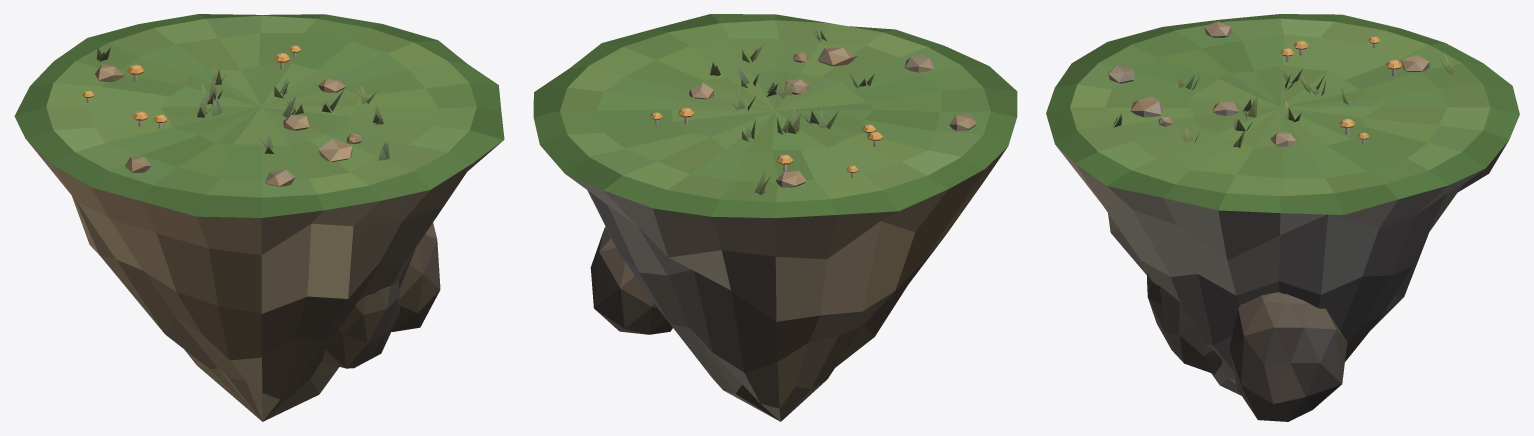
Rendered from islet_small_c.glb.
3 renders of one model, left to right at view 1: azimuth 30°, elevation 25°; view 2: azimuth 150°, elevation 25°; view 3: azimuth 270°, elevation 25°, orthographic. The views are drawn at different scales.
Parts seen in each view (by area): view 1: islet_small_c; view 2: islet_small_c; view 3: islet_small_c.
Boxes of the visible parts, bbox=[...] form: islet_small_c: bbox=[14, 14, 504, 421]; islet_small_c: bbox=[533, 14, 1017, 421]; islet_small_c: bbox=[1046, 14, 1519, 421].
Bounding box in the file's own units: 11.22 × 8.48 × 11.27.
